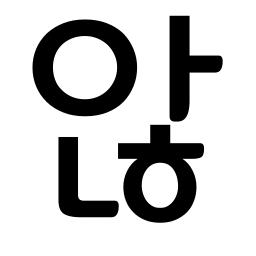Gaji: (162, 46, 203, 83)
